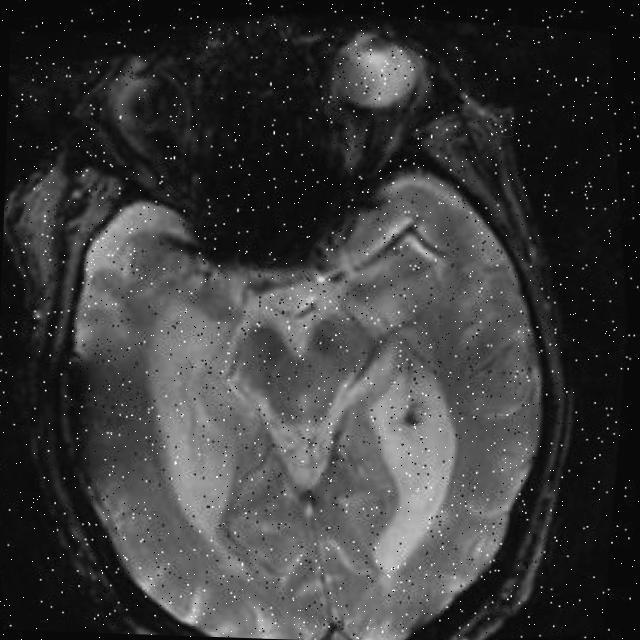MCI: (40, 316, 168, 466), (388, 364, 472, 440)
